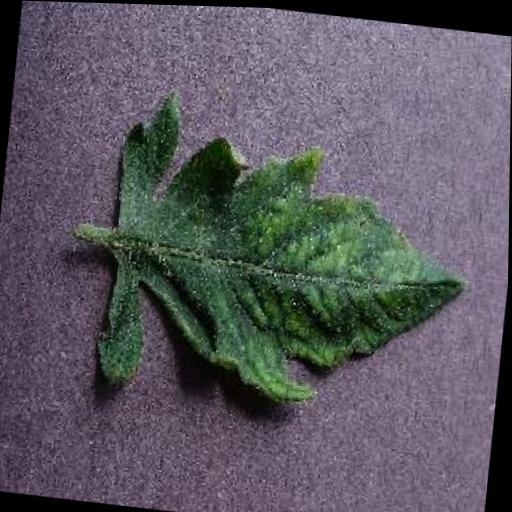Mosaic Virus: (96, 81, 487, 428)
